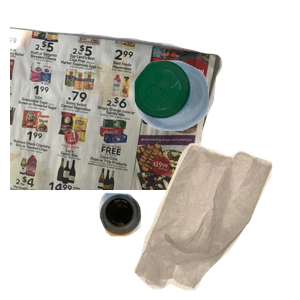glass: (96, 190, 230, 300)
paper: (10, 22, 225, 202)
plastic: (132, 58, 300, 182)
trash: (132, 140, 300, 300)
